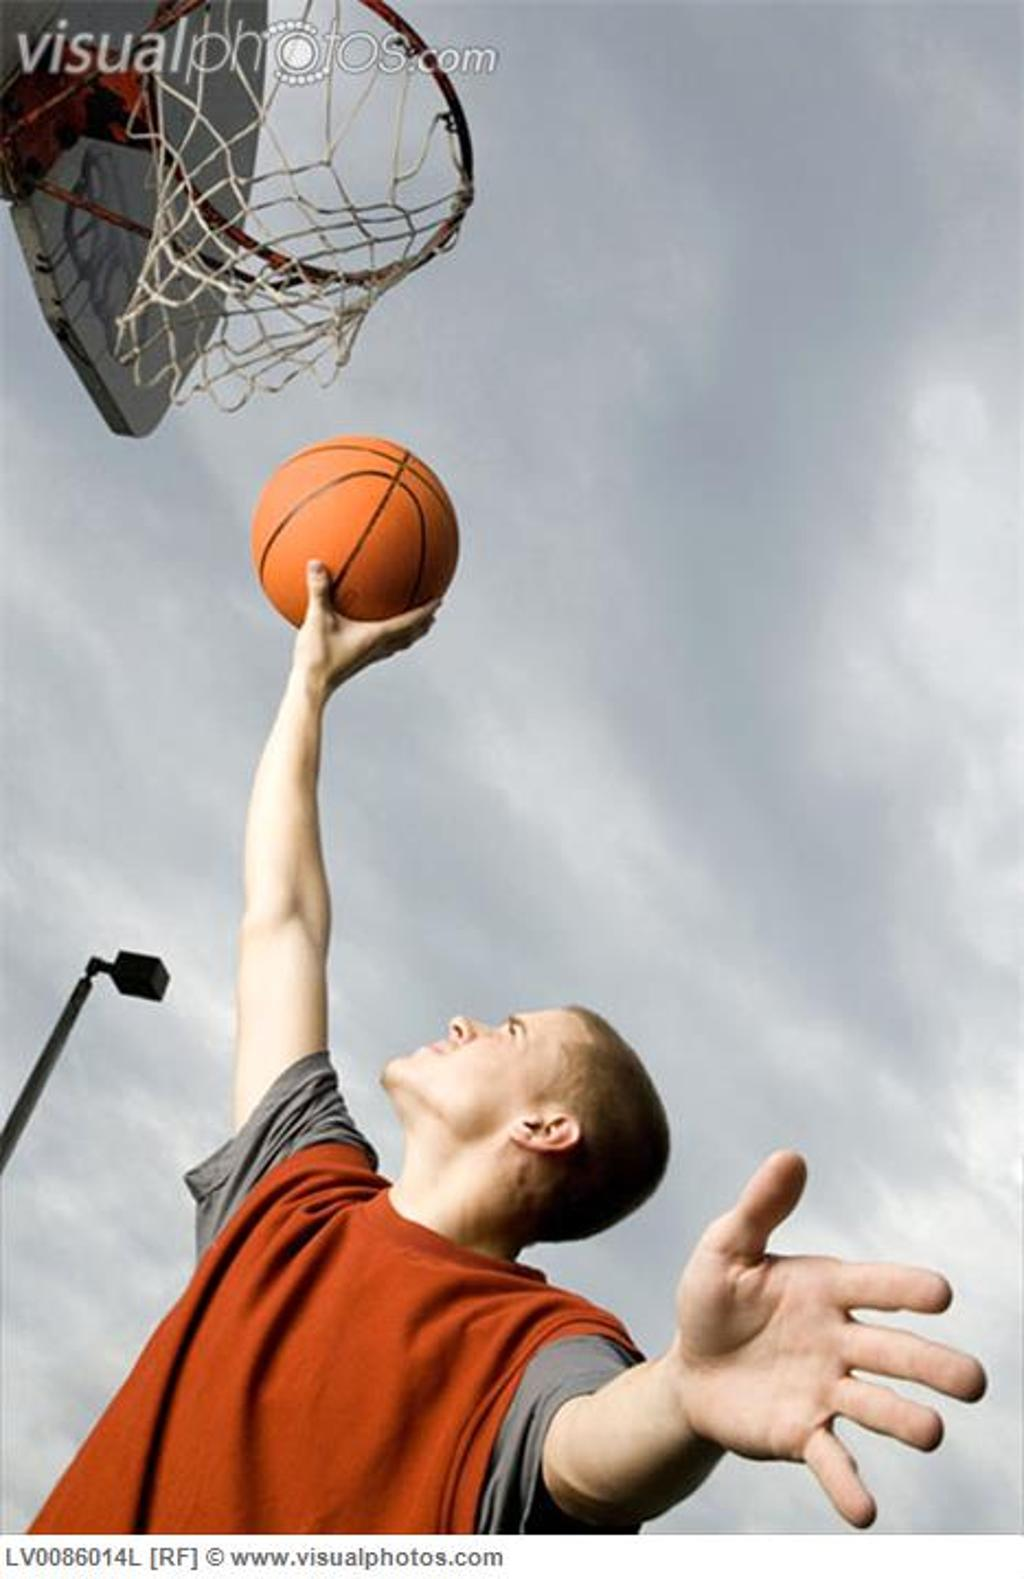face: (387, 1006, 662, 1129)
